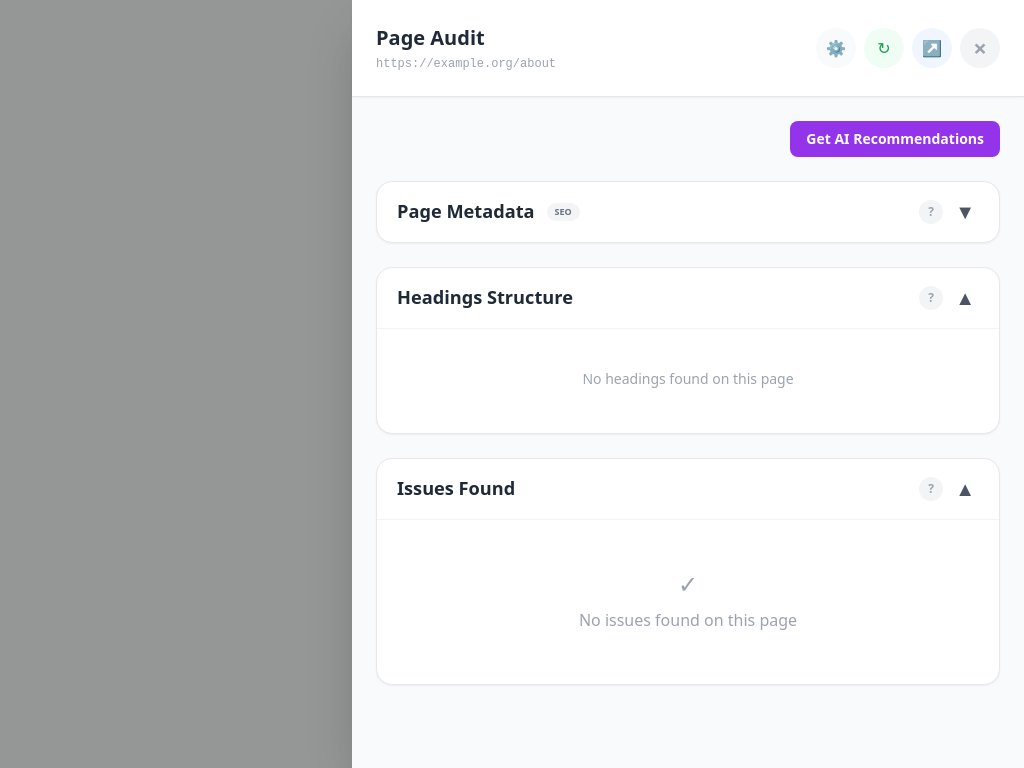
Test: D5 the re-check button reports its outcome › shows the caveat when the page could not be read
This screenshot has width=1024, height=768.
Click the button named "Re-check this page" at (884, 48), box [864,28,904,68]
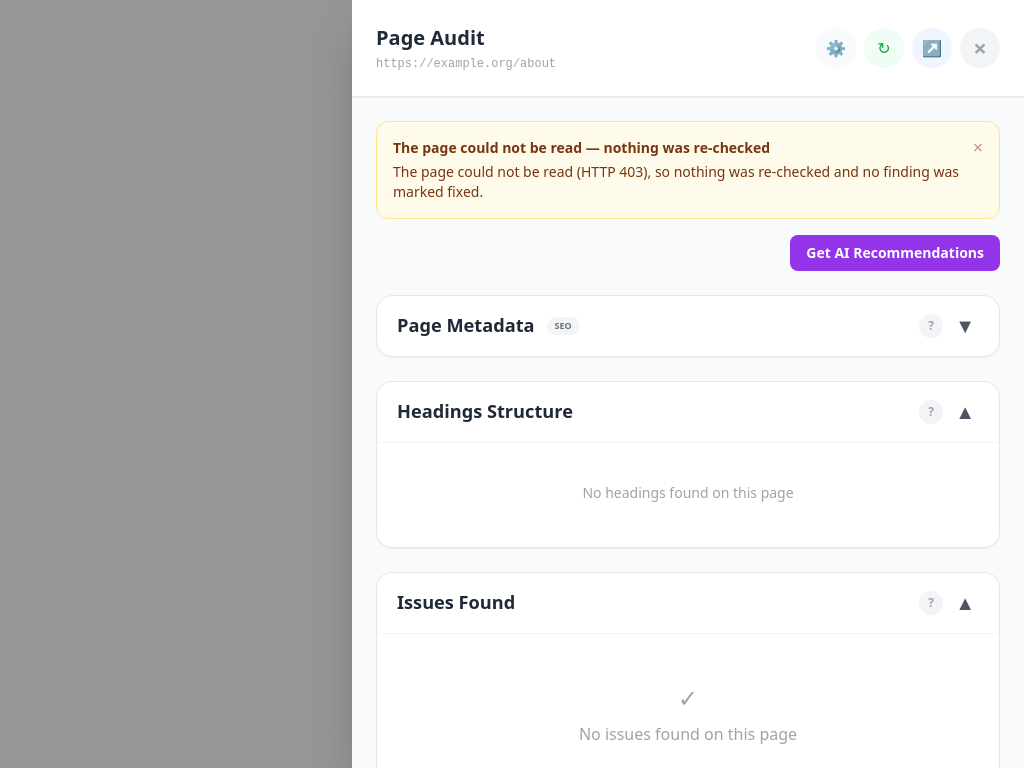
Now the text "The page could not be read — nothing was re-checked" is shown, box [393,138,770,157]
